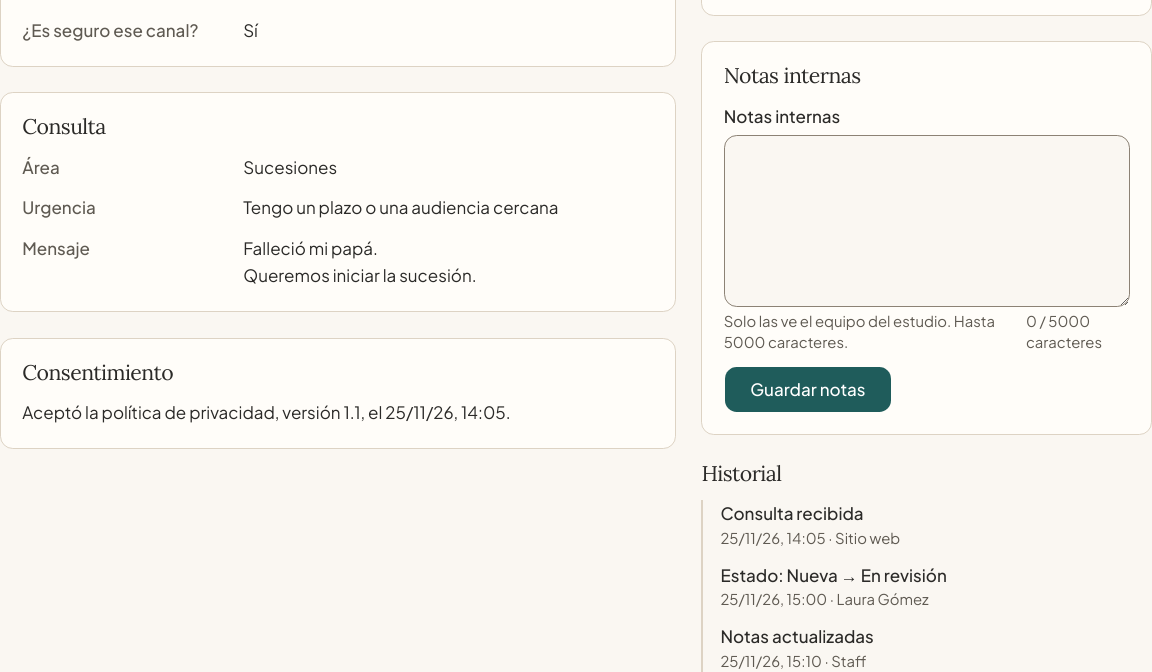
NotesForm › keeps the typed text and marks the field when the save is rejected
(page scrolled)
Click the button "Guardar notas".
click(808, 390)  # box [724,366,892,413]
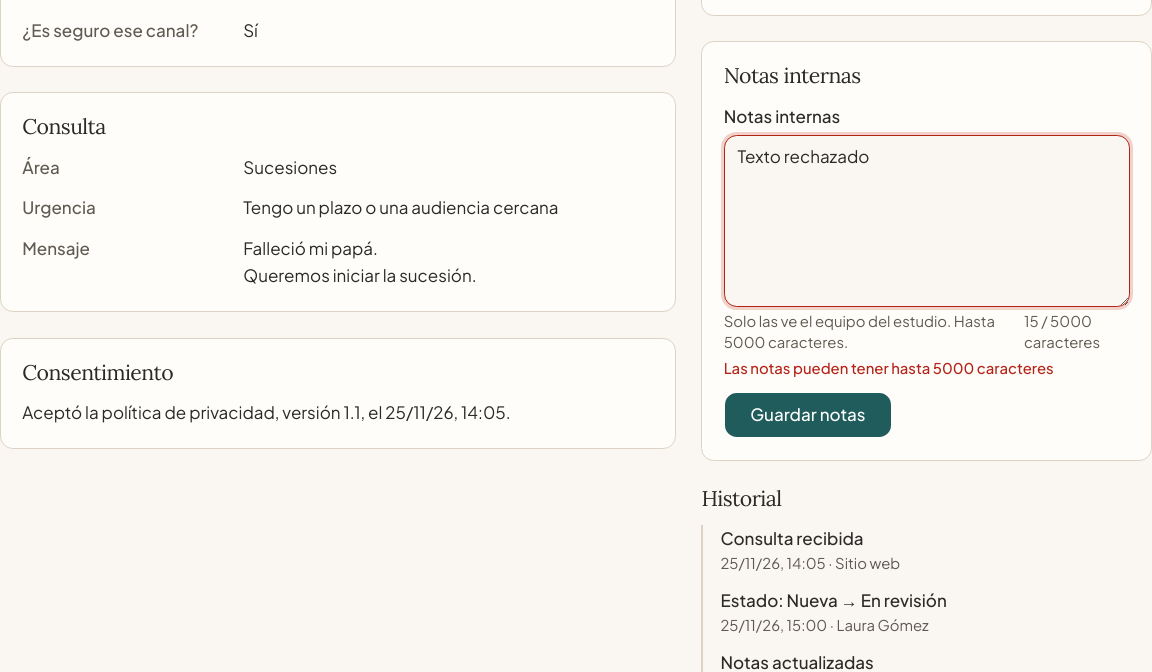
Check: the text box labelled "Notas internas" holds "Texto rechazado", box [724,135,1130,307]
